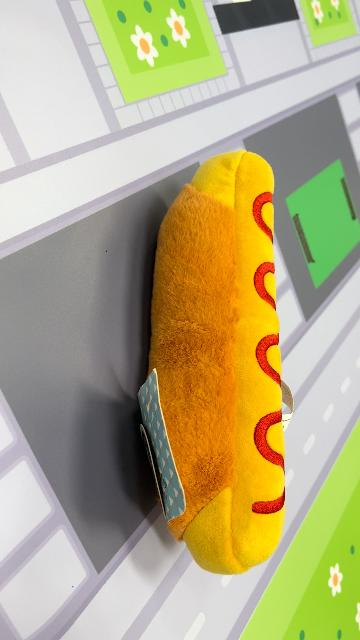hotdog: (138, 148, 290, 576)
